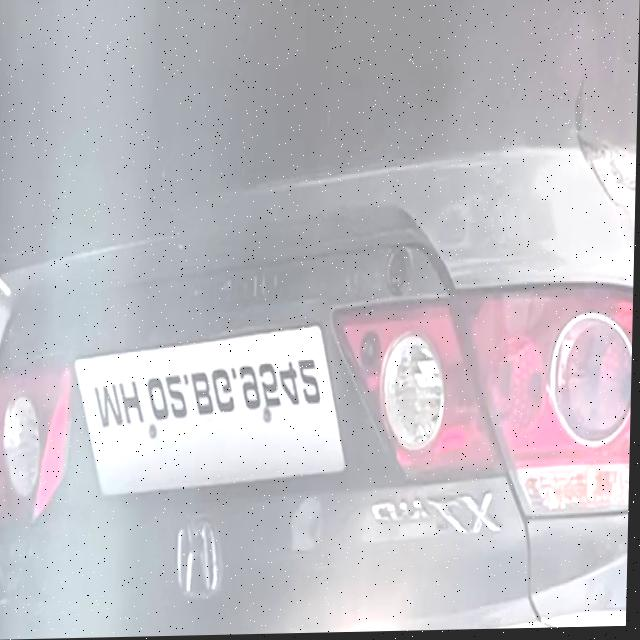plate: (73, 324, 350, 502)
